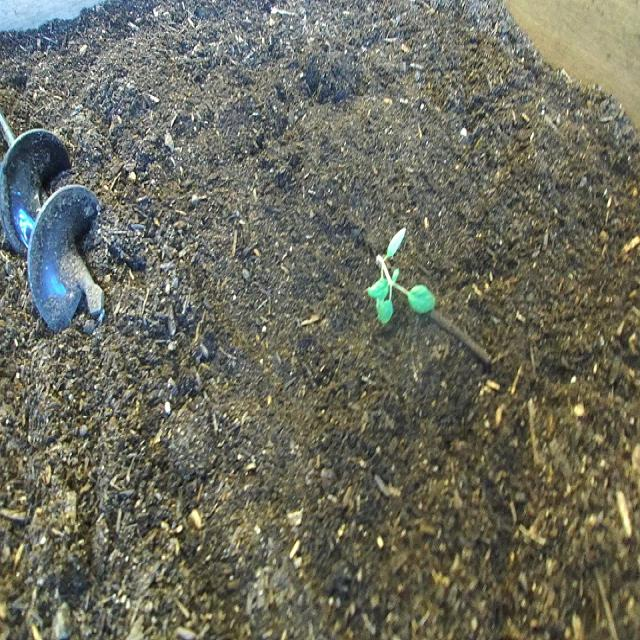Healthy: (359, 214, 442, 336)
